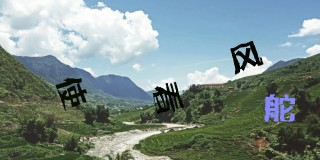使: (55, 76, 88, 111)
看: (152, 81, 184, 115)
舵: (264, 92, 296, 123)
风: (230, 39, 264, 75)
